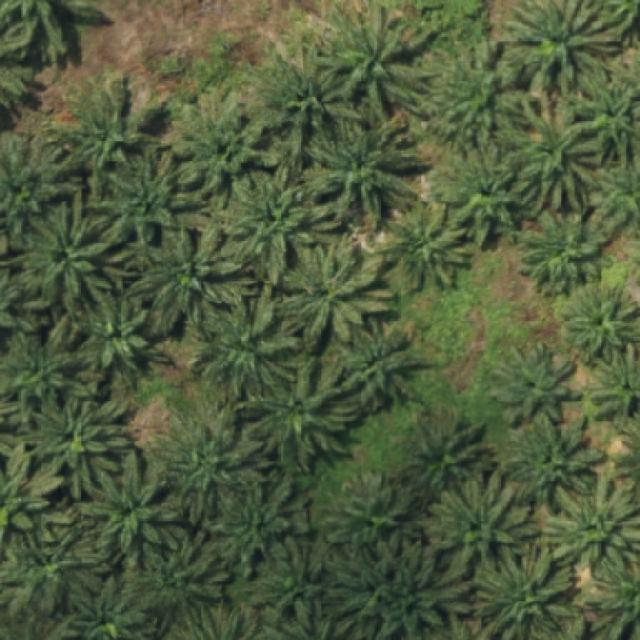Kelapa_Sawit: (312, 2, 442, 126), (306, 107, 432, 230), (237, 351, 360, 477), (55, 74, 172, 204), (21, 191, 137, 317), (153, 405, 273, 526), (274, 243, 398, 359), (228, 162, 338, 286), (174, 86, 280, 212), (127, 221, 242, 337), (491, 96, 602, 216), (190, 283, 302, 400), (420, 470, 543, 575), (81, 446, 182, 572), (20, 392, 134, 502), (436, 37, 532, 158), (503, 0, 621, 98), (101, 140, 207, 248), (202, 476, 313, 579), (499, 411, 608, 514), (128, 527, 229, 638), (266, 42, 363, 156), (332, 315, 436, 414), (434, 142, 528, 249), (0, 527, 102, 618), (318, 468, 417, 560), (252, 533, 340, 635), (518, 208, 614, 300), (71, 289, 174, 374), (486, 338, 582, 429), (384, 198, 474, 290), (407, 405, 498, 492), (564, 277, 640, 366)
